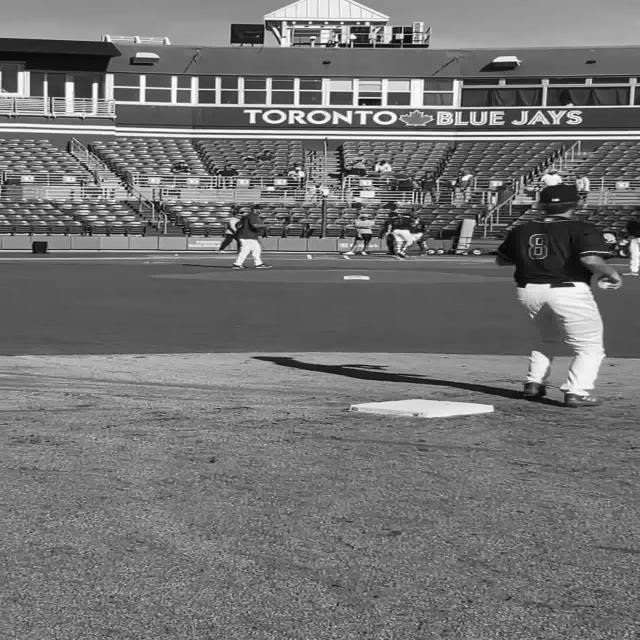base: (349, 399, 493, 419)
baseball: (596, 280, 616, 290)
shoe: (562, 394, 602, 408), (520, 382, 547, 399)
